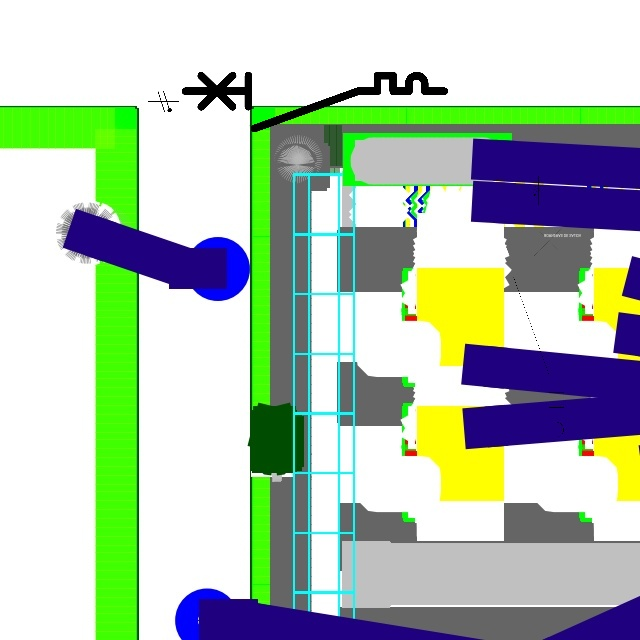interruptor_termomagnetico: (178, 69, 450, 135), (507, 205, 570, 462)
